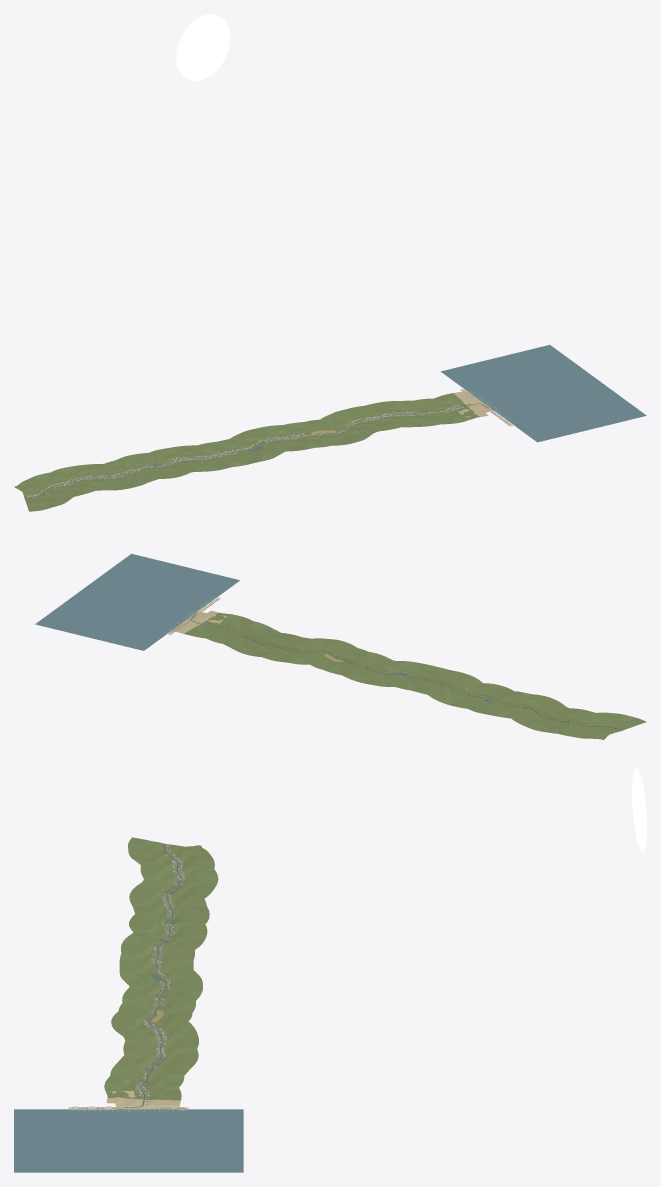
File: goldengate.glb
3 views of the same model, one above another, from view 1: azimuth 30°, elevation 25°; view 2: azimuth 150°, elevation 25°; view 3: azimuth 270°, elevation 25° (orthographic). The views are drawn at different scales.
Parts seen in each view (by area): view 1: Land_006, Sun; view 2: Land_006, ParkLawns_000, ParkLawns_018, ParkLawns_008, ParkLawns_005, ParkLawns_010, ParkLawns_009, ParkLawns_016, ParkLawns_006, ParkLawns_014, ParkLawns_004, ParkLawns_024 (+15 smaller); view 3: Land_006, Sun, ParkLawns_008, ParkLawns_000, ParkLawns_016, ParkLawns_022, ParkLawns_011, ParkLawns_023, ParkLawns_021, ParkLawns_012, ParkLawns_018, ParkLawns_020 (+16 smaller).
Part boxes in pixels (bbox=[...]): Land_006: bbox=[440, 345, 646, 442]; Sun: bbox=[176, 14, 230, 80]; Land_006: bbox=[35, 553, 239, 650]; ParkLawns_000: bbox=[599, 712, 646, 739]; ParkLawns_018: bbox=[304, 638, 350, 664]; ParkLawns_008: bbox=[455, 683, 512, 708]; ParkLawns_005: bbox=[510, 694, 564, 717]; ParkLawns_010: bbox=[427, 671, 481, 695]; ParkLawns_009: bbox=[430, 682, 485, 706]; ParkLawns_016: bbox=[324, 648, 372, 675]; ParkLawns_006: bbox=[494, 691, 530, 718]; ParkLawns_014: bbox=[350, 660, 394, 686]; ParkLawns_004: bbox=[510, 705, 570, 727]; ParkLawns_024: bbox=[203, 613, 253, 638]; Land_006: bbox=[14, 1083, 243, 1172]; Sun: bbox=[632, 768, 646, 851]; ParkLawns_008: bbox=[129, 915, 207, 932]; ParkLawns_000: bbox=[128, 837, 201, 860]; ParkLawns_016: bbox=[118, 1000, 195, 1012]; ParkLawns_022: bbox=[114, 1054, 191, 1076]; ParkLawns_011: bbox=[119, 948, 194, 961]; ParkLawns_023: bbox=[110, 1066, 184, 1087]; ParkLawns_021: bbox=[124, 1049, 198, 1067]; ParkLawns_012: bbox=[119, 960, 193, 972]; ParkLawns_018: bbox=[111, 1016, 189, 1036]; ParkLawns_020: bbox=[123, 1039, 198, 1052].
Bounding box in the file's own units: 7776 × 3281 × 6341.
